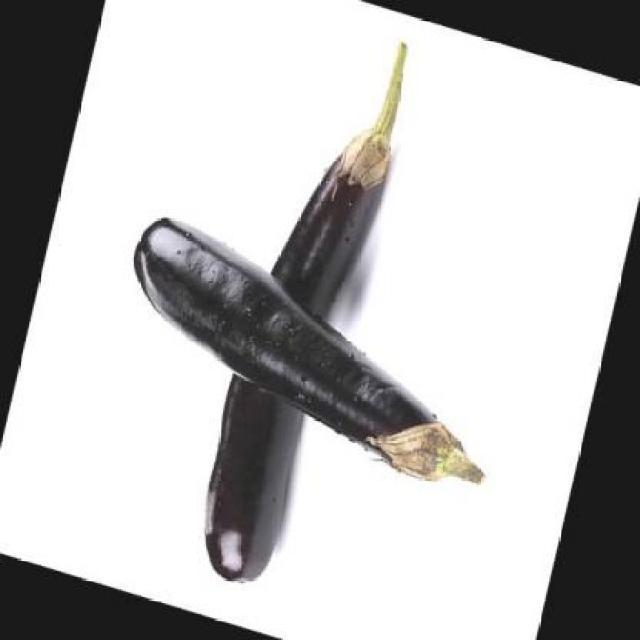eggplant: (198, 38, 412, 586), (129, 207, 494, 490)
